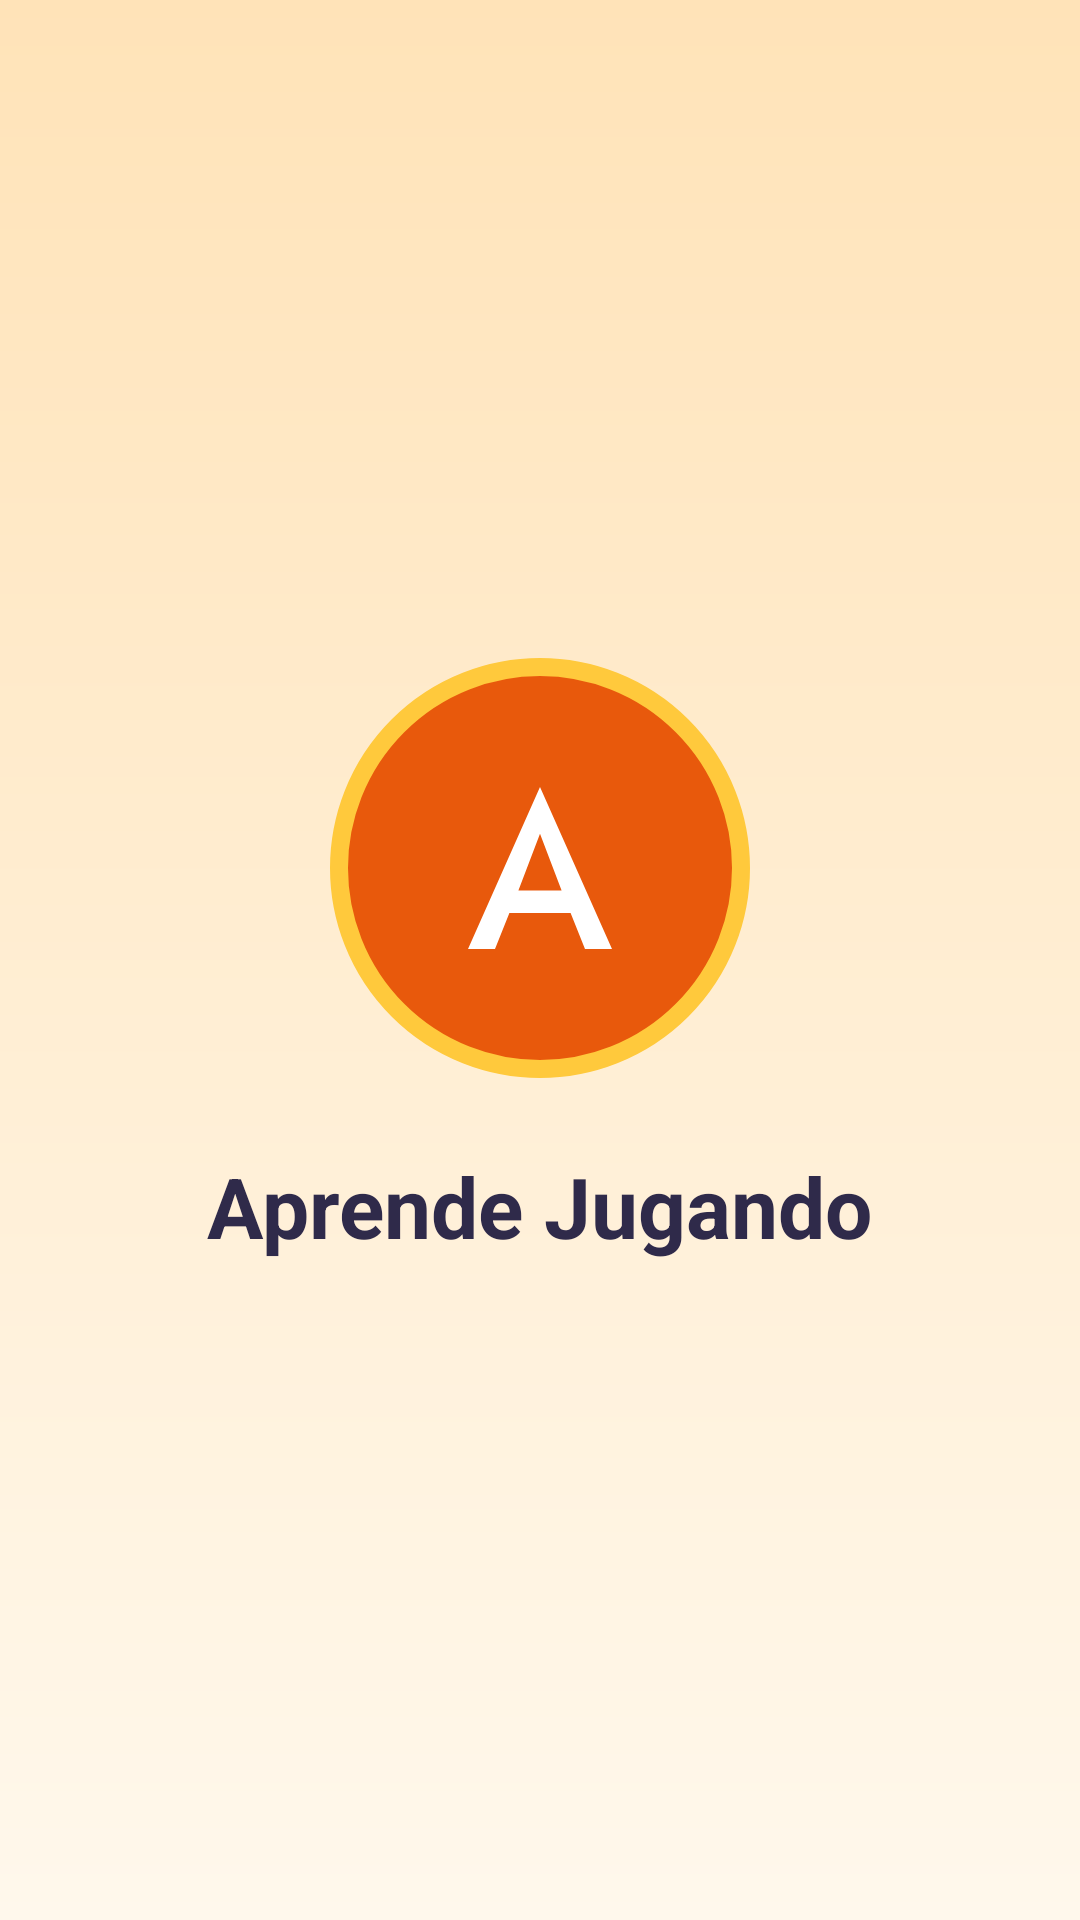

Icons on this 1080w x 1920h Android screen, each with the point to tap as (x=x, y=y):
letra: (x=540, y=868)
